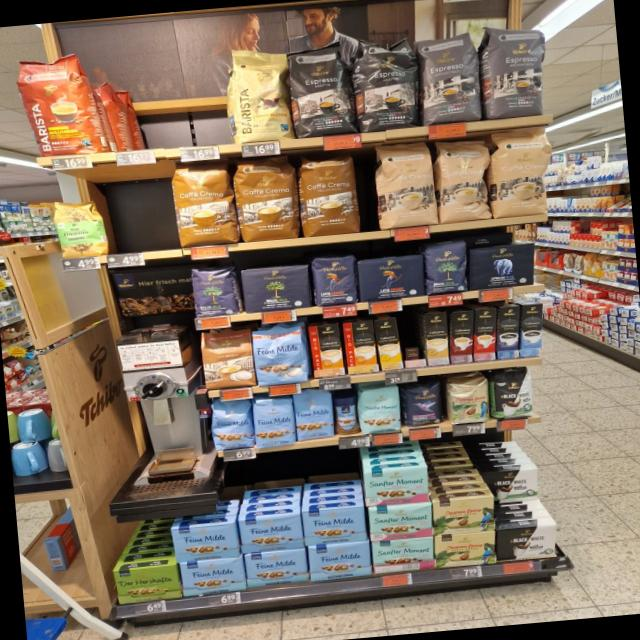AB Gemahlen: (468, 242, 542, 290)
Athiopien Bohne: (50, 193, 109, 260)
BM Bohne: (189, 263, 241, 319), (422, 238, 470, 296)
BM Gemahlen: (240, 262, 312, 314)
BW Bohne: (488, 368, 538, 419)
BW Gemahlen: (495, 524, 557, 562)
Barista CB: (226, 41, 294, 142)
Barista Kolumbien: (15, 50, 103, 159)
C Fino Bohne: (402, 382, 445, 428)
CC Mild: (489, 126, 558, 218), (373, 138, 439, 230), (434, 135, 495, 223)
CC Vollmundig: (200, 326, 256, 390)
CC Vollmundig 36 Pads: (168, 156, 239, 248), (233, 152, 301, 242), (296, 149, 361, 238)
Colombia BB Bohne: (446, 375, 492, 426)
Colombia BB Gemahlen: (432, 530, 498, 570), (432, 494, 494, 536)
Espresso Aromatisch: (479, 18, 553, 120), (414, 32, 484, 126)
Espresso Kraftig: (350, 33, 422, 131), (287, 42, 356, 138)
FM 36 Pads: (252, 324, 310, 386)
FM Bohne: (208, 396, 254, 450), (252, 394, 298, 446), (291, 388, 335, 442)
FM Gemahlen: (170, 521, 240, 562), (300, 504, 368, 546), (178, 556, 246, 596), (244, 548, 310, 588), (238, 513, 304, 553), (306, 541, 372, 581)
FM Instant: (333, 391, 360, 436)
Herzhatfe Mundig: (112, 563, 183, 604)
LG Bohne: (310, 252, 359, 308)
LG Gemahlen: (357, 252, 428, 302)
SM Bohne: (357, 382, 402, 436)
SM Gemahlen: (363, 463, 430, 506), (367, 500, 433, 542), (372, 536, 436, 574)
Simo CCMild bigpack: (373, 317, 403, 370)
Simo CCVollmundig: (308, 323, 344, 377), (343, 320, 377, 374)
Simo Decaff: (424, 312, 450, 366)
Simo Es Brazil: (473, 307, 496, 361)
Simo Es Caramel: (450, 309, 474, 363)
Simo Es Kraft: (497, 304, 519, 359)
Simo Es Vanilla: (520, 303, 543, 357)
